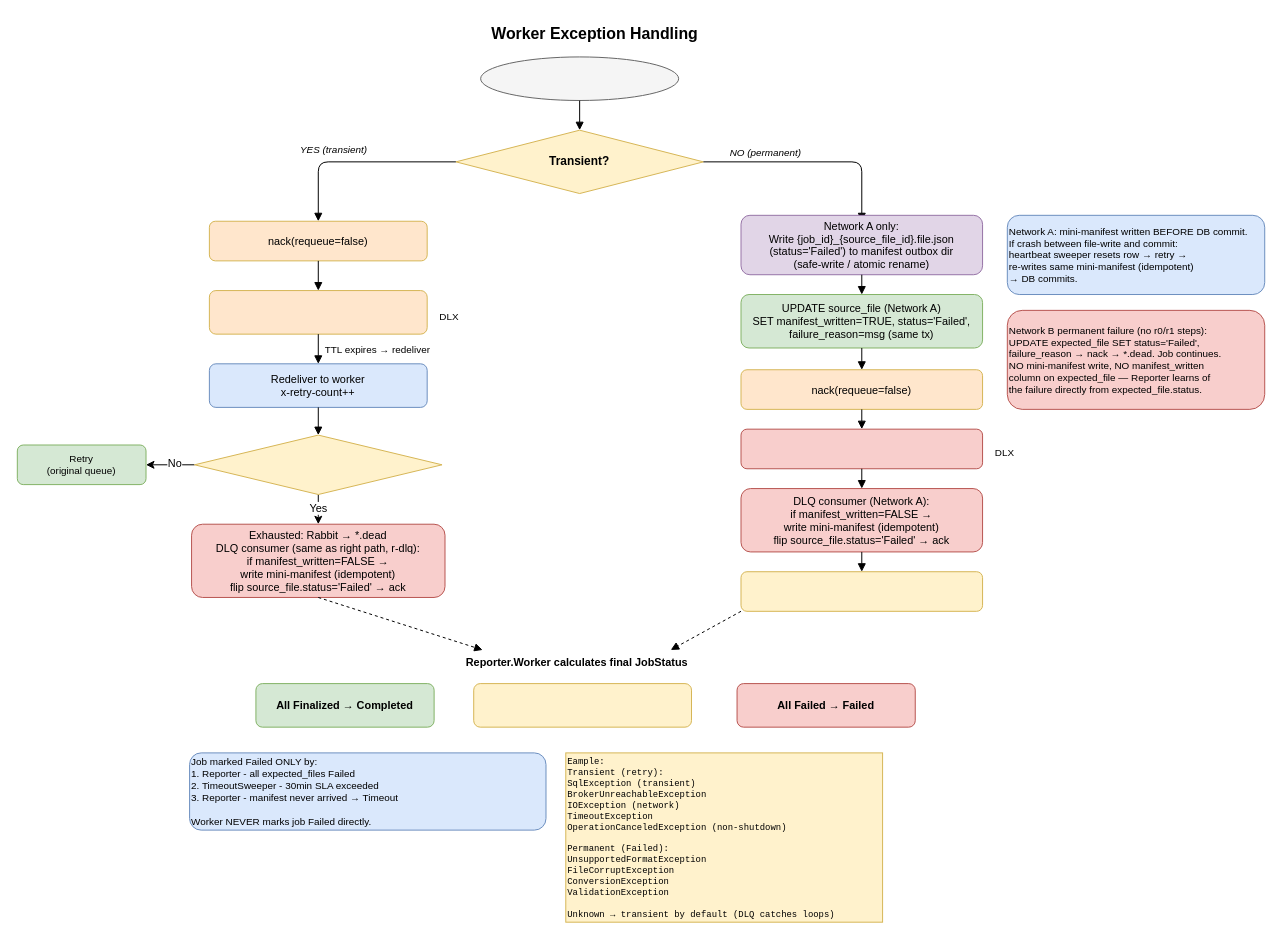
Some shapes in this 1282 by 940 pixel diagram are drawn without their labels. The box of each missing label's shape, as (x1, y1, x2, y2) in pixels:
*.dead queue: (740, 428, 983, 469)
*.retry queue (x-message-ttl = 1 min): (208, 290, 427, 334)
count ≥ 5?: (194, 434, 442, 495)
Exception in Worker: (480, 56, 679, 100)
Job continues for other files: (740, 571, 983, 611)
Some Failed → CompletedPartially: (473, 683, 692, 727)
